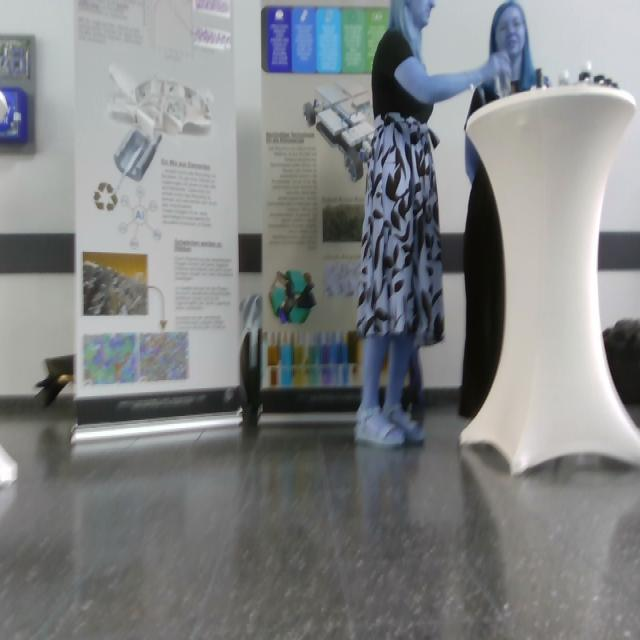door: (72, 1, 245, 440)
light bulb: (107, 63, 214, 183), (303, 81, 376, 182), (1, 86, 19, 489), (114, 128, 162, 182), (1, 88, 10, 126)
person: (354, 1, 514, 449)
pillar: (458, 81, 640, 476)
tiled floor: (1, 389, 640, 640)
